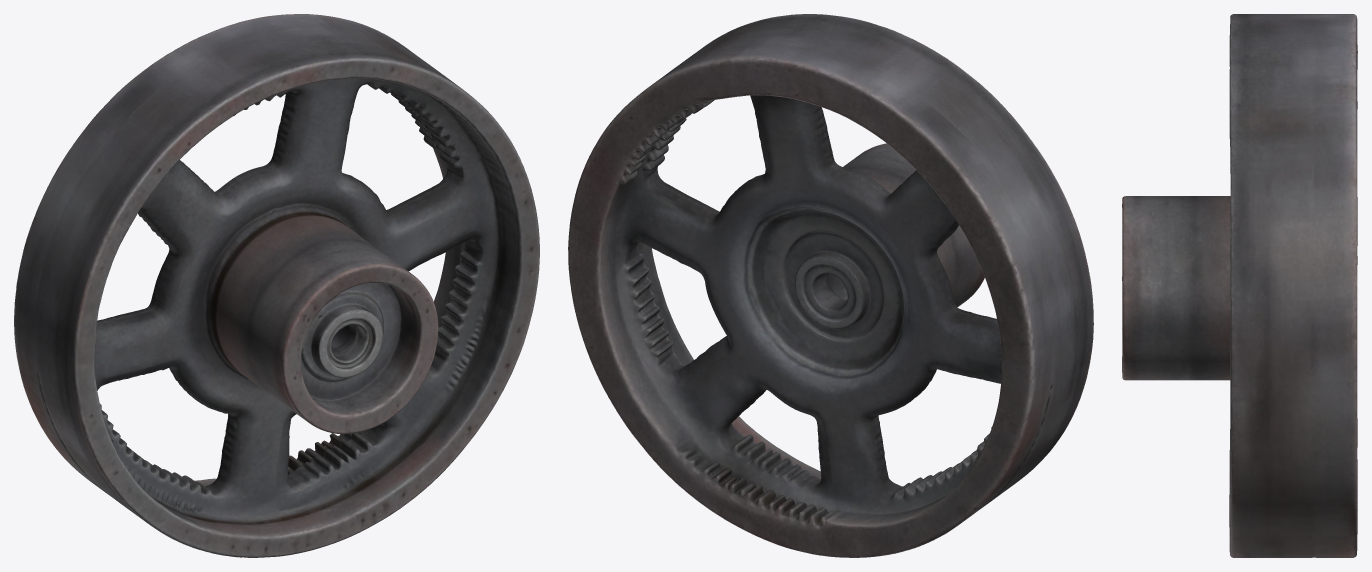
The model's file is wheel.glb.
The picture shows the model from 3 angles, left to right: view 1: azimuth 30°, elevation 25°; view 2: azimuth 150°, elevation 25°; view 3: azimuth 270°, elevation 25°; orthographic projection.
Parts seen in each view (by area): view 1: world; view 2: world; view 3: world.
Boxes of the visible parts, <box> form: world: <box>14,14,539,557</box>; world: <box>568,14,1093,557</box>; world: <box>1122,14,1357,557</box>.
Size of the model in its own units: 1 by 1 by 0.4333.
1 material, 1 textured.
